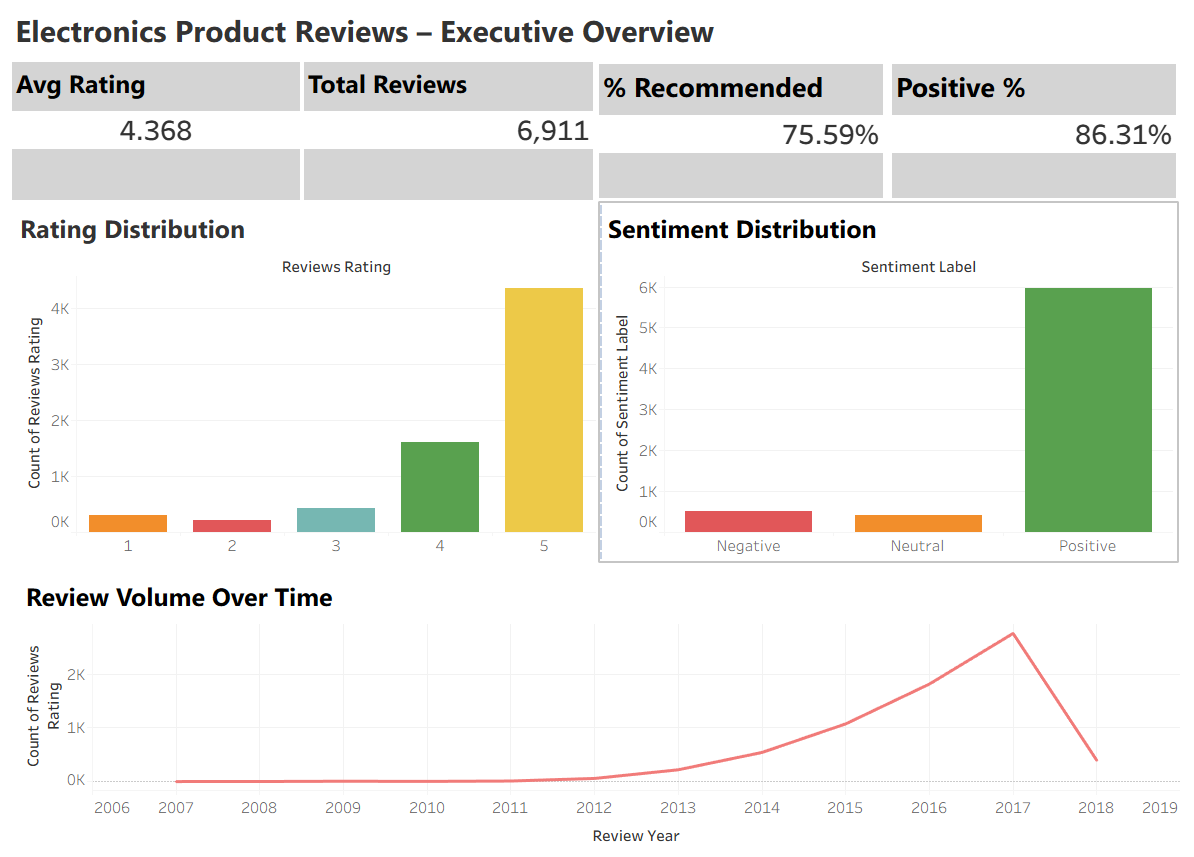

This screenshot's page, from the dashboard's own definition file:
{"tool":"tableau","page":{"name":"Dashboard 1","canvas":[1000,1000],"units":"permille","ordinal":0},"visuals":[{"type":"title","box":[6.7,9.6,986.7,57.5]},{"type":"worksheet","title":"Sheet 1","mark":"Automatic","box":[8.3,72.1,243.6,165.1]},{"type":"worksheet","title":"Sheet 2","mark":"Automatic","box":[251.9,72.1,244.2,165.1]},{"type":"worksheet","title":"Sheet 3","mark":"Automatic","box":[496.1,72.1,243.6,165.1]},{"type":"worksheet","title":"Sheet 4","mark":"Automatic","box":[739.7,72.1,243.6,165.1]},{"type":"worksheet","title":"Sheet 5","mark":"Automatic","rows":["reviews_rating"],"cols":["reviews_rating"],"box":[10,238.4,490,416.3]},{"type":"worksheet","title":"Sheet 6","mark":"Automatic","rows":["sentiment_label"],"cols":["sentiment_label"],"box":[500,238.4,480.8,416.3]},{"type":"worksheet","title":"Sheet 7","mark":"Line","rows":["reviews_rating"],"cols":["review_year"],"box":[9.2,666.3,977.5,332.6]}]}

Visuals, with their boxes on the dashboard's canvas, which has no fixed pixel size, in thousandths of its width and height (x1, y1, x2, y2). These are canvas units, not pixel positions in the 1194x857 screenshot, which may show the page scaled, cropped or inside an application window:
title: <box>7,10,993,67</box>
"Sheet 1" worksheet: <box>8,72,252,237</box>
"Sheet 2" worksheet: <box>252,72,496,237</box>
"Sheet 3" worksheet: <box>496,72,740,237</box>
"Sheet 4" worksheet: <box>740,72,983,237</box>
"Sheet 5" worksheet: <box>10,238,500,655</box>
"Sheet 6" worksheet: <box>500,238,981,655</box>
"Sheet 7" worksheet (Line marks): <box>9,666,987,999</box>
